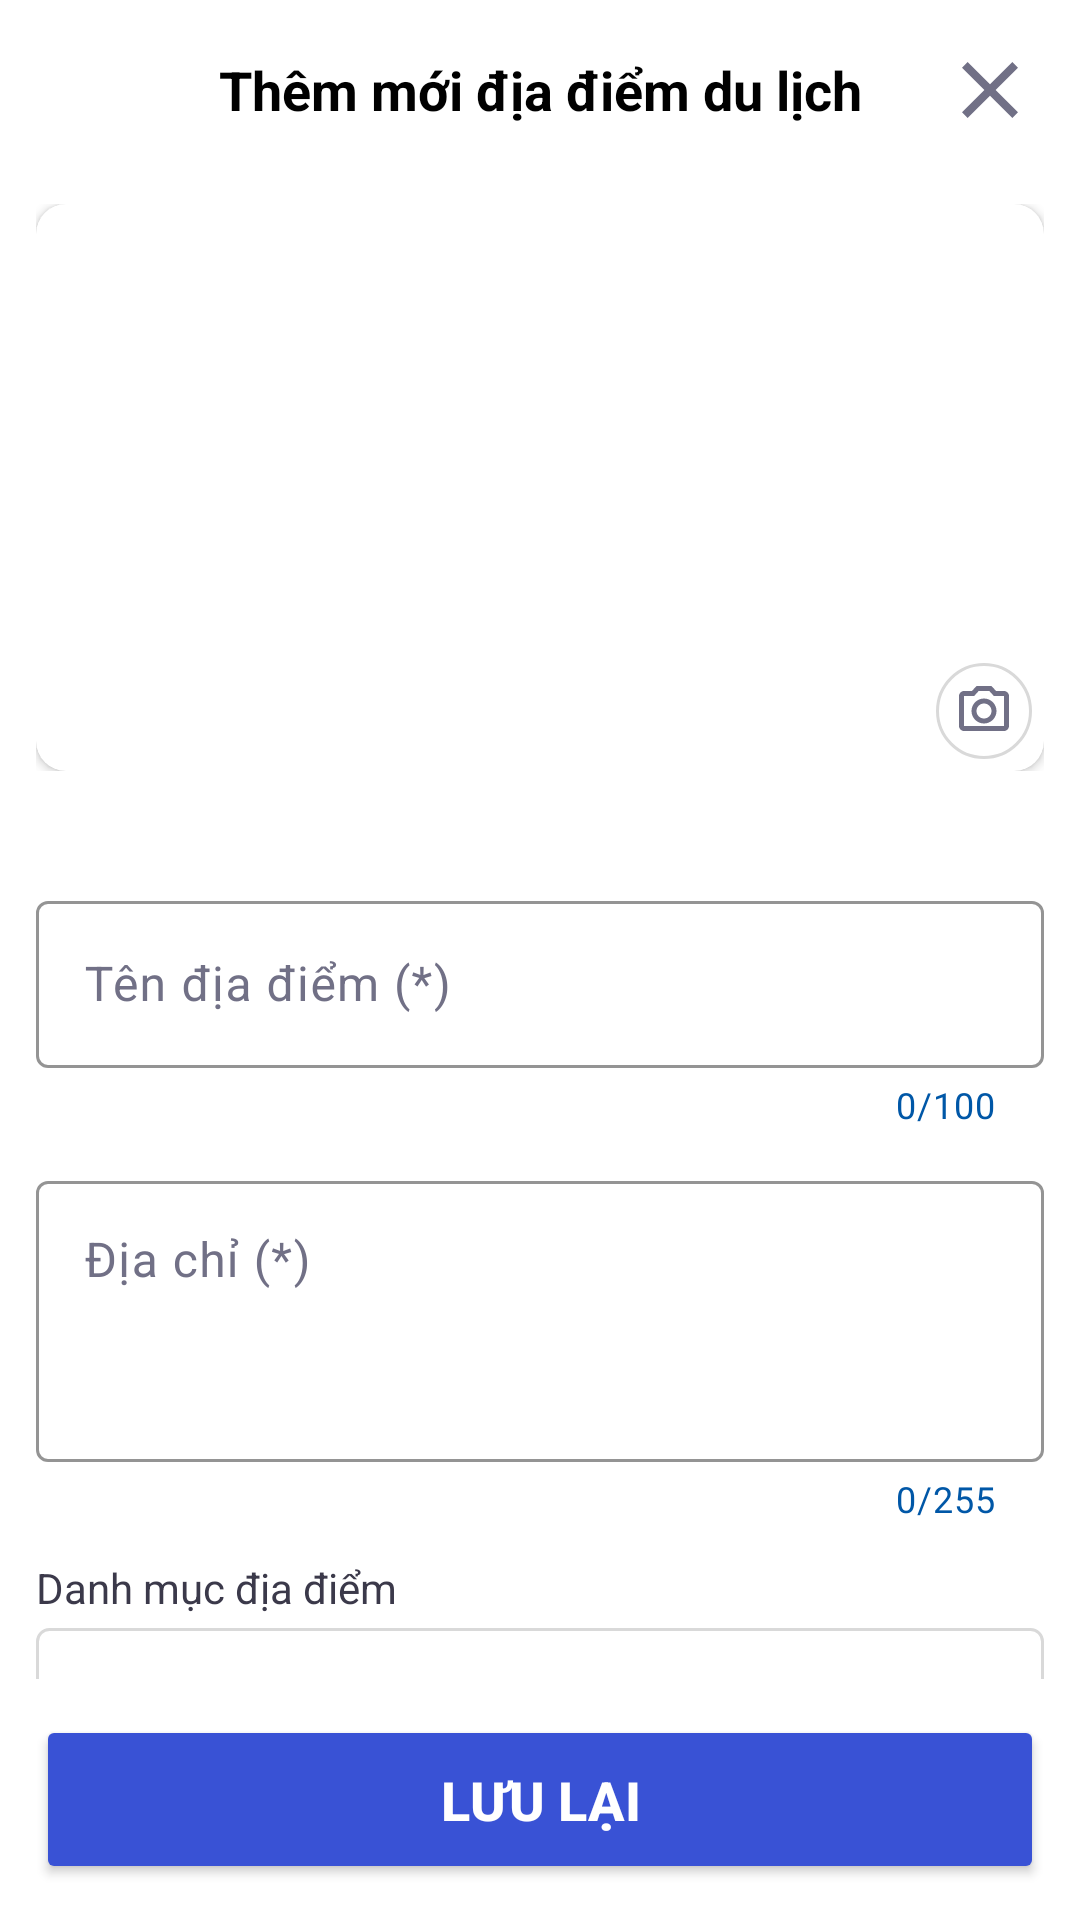

Screen size 1080x1920. Icon name, then its center in pixels as (x,y):
camera: (984,711)
close: (990,90)
